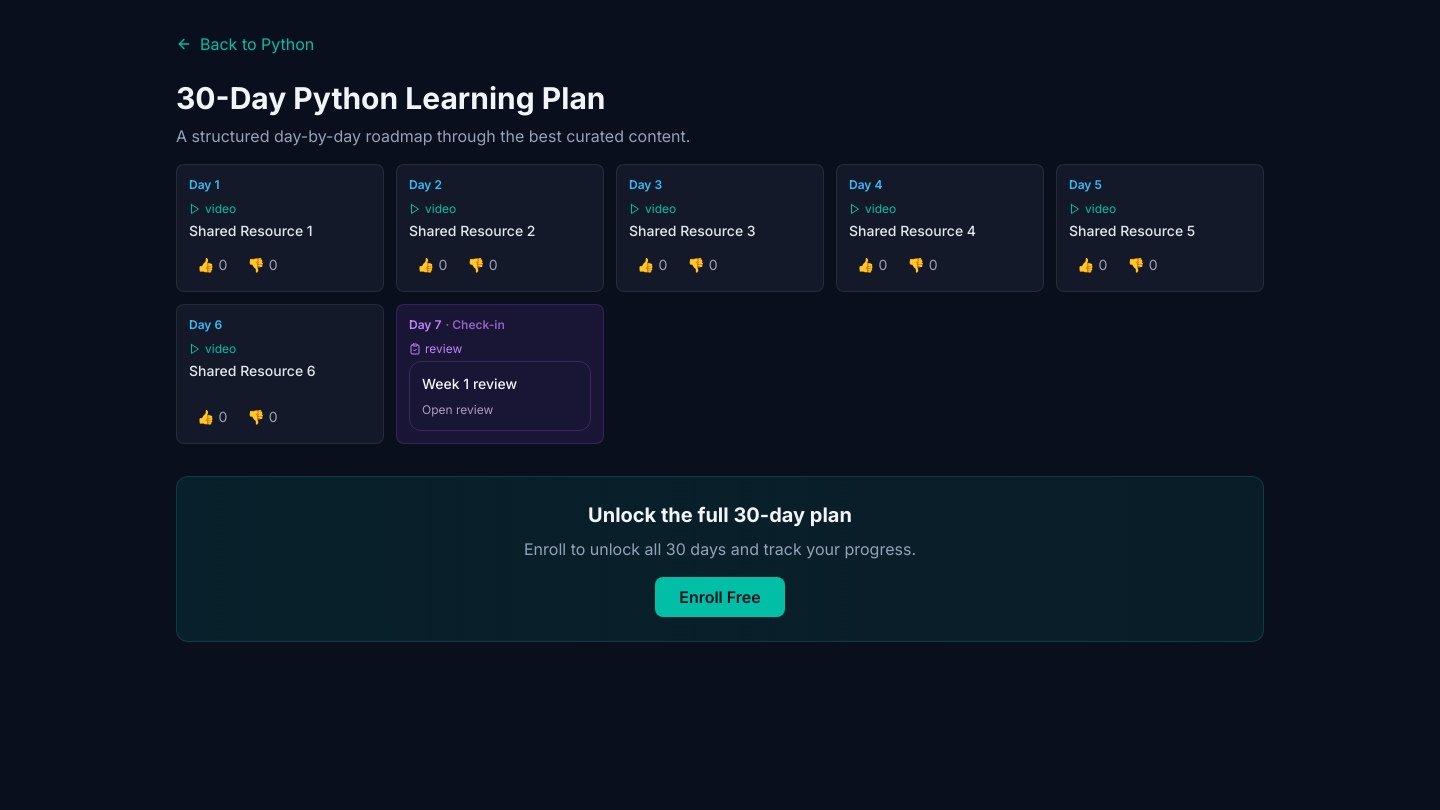
LearningPlanPage › review day placeholders › renders short-answer textarea when type is not multiple_choice
Click the button "Week 1 review Open review": {"x": 500, "y": 396} left=409, top=361, right=591, bottom=431
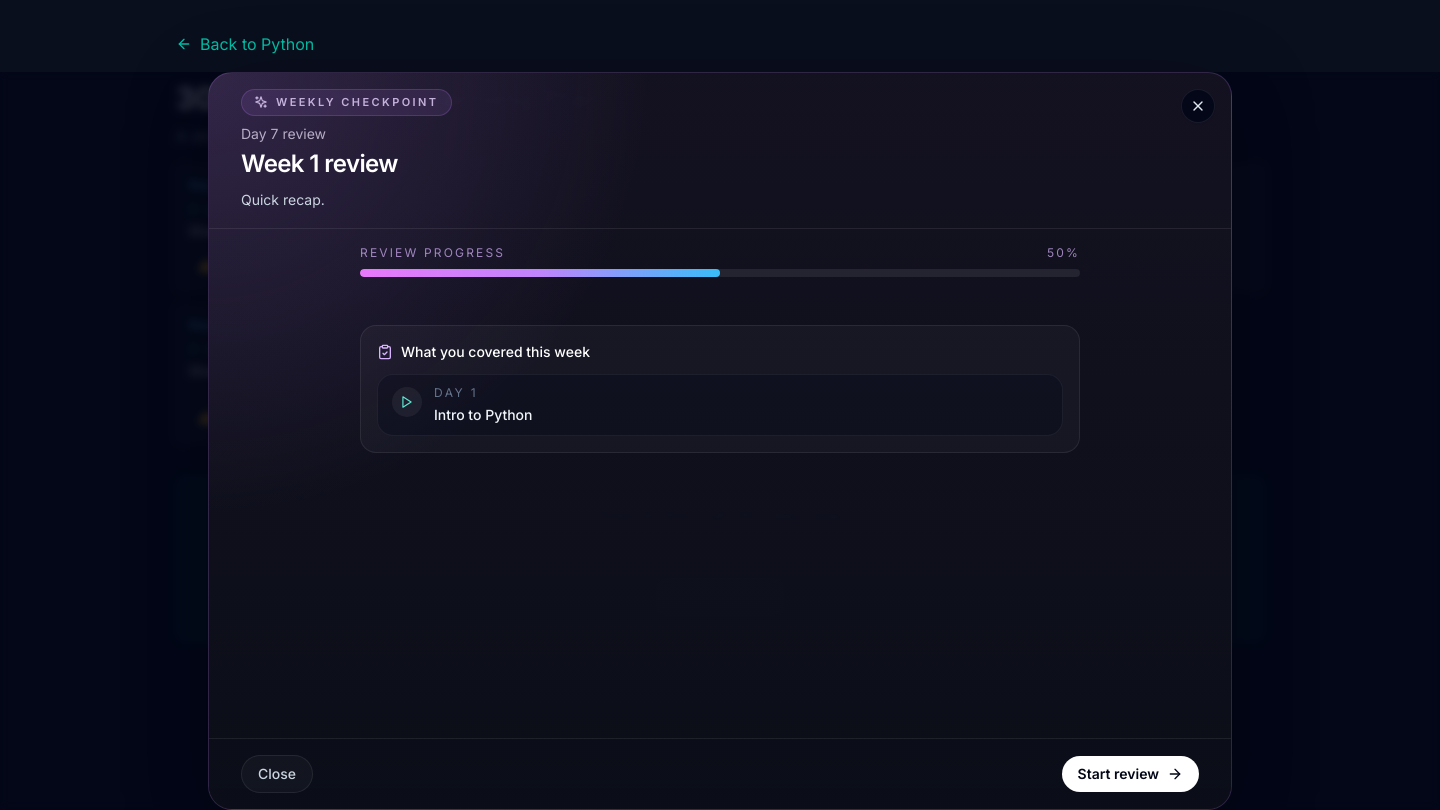
Click the button "Start review": {"x": 1130, "y": 774} left=1062, top=756, right=1199, bottom=792
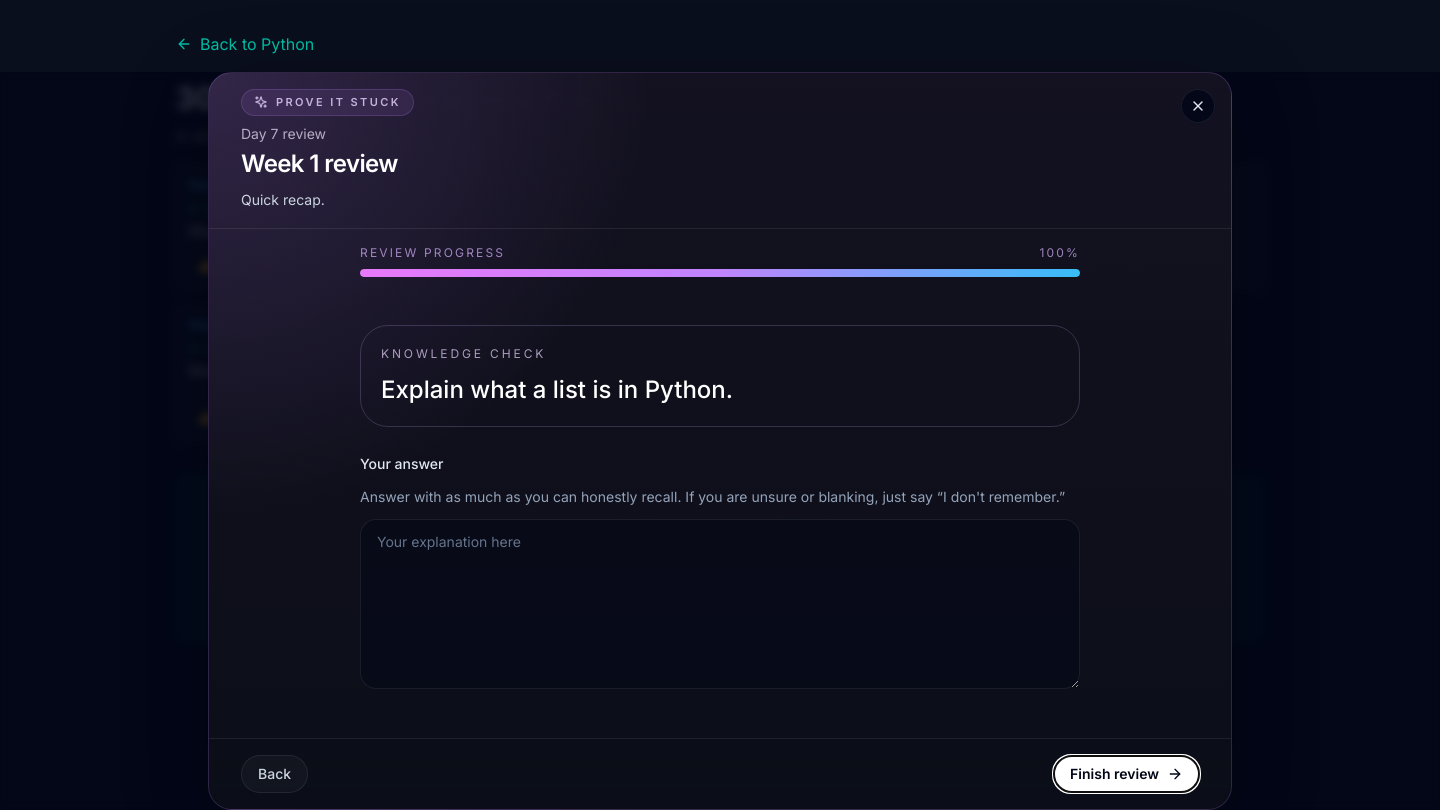
expect the text "Explain what a list is in Python." is shown: met, box left=381, top=374, right=733, bottom=404
expect the text box labelled "Your answer" is shown: met, box left=360, top=518, right=1080, bottom=688
